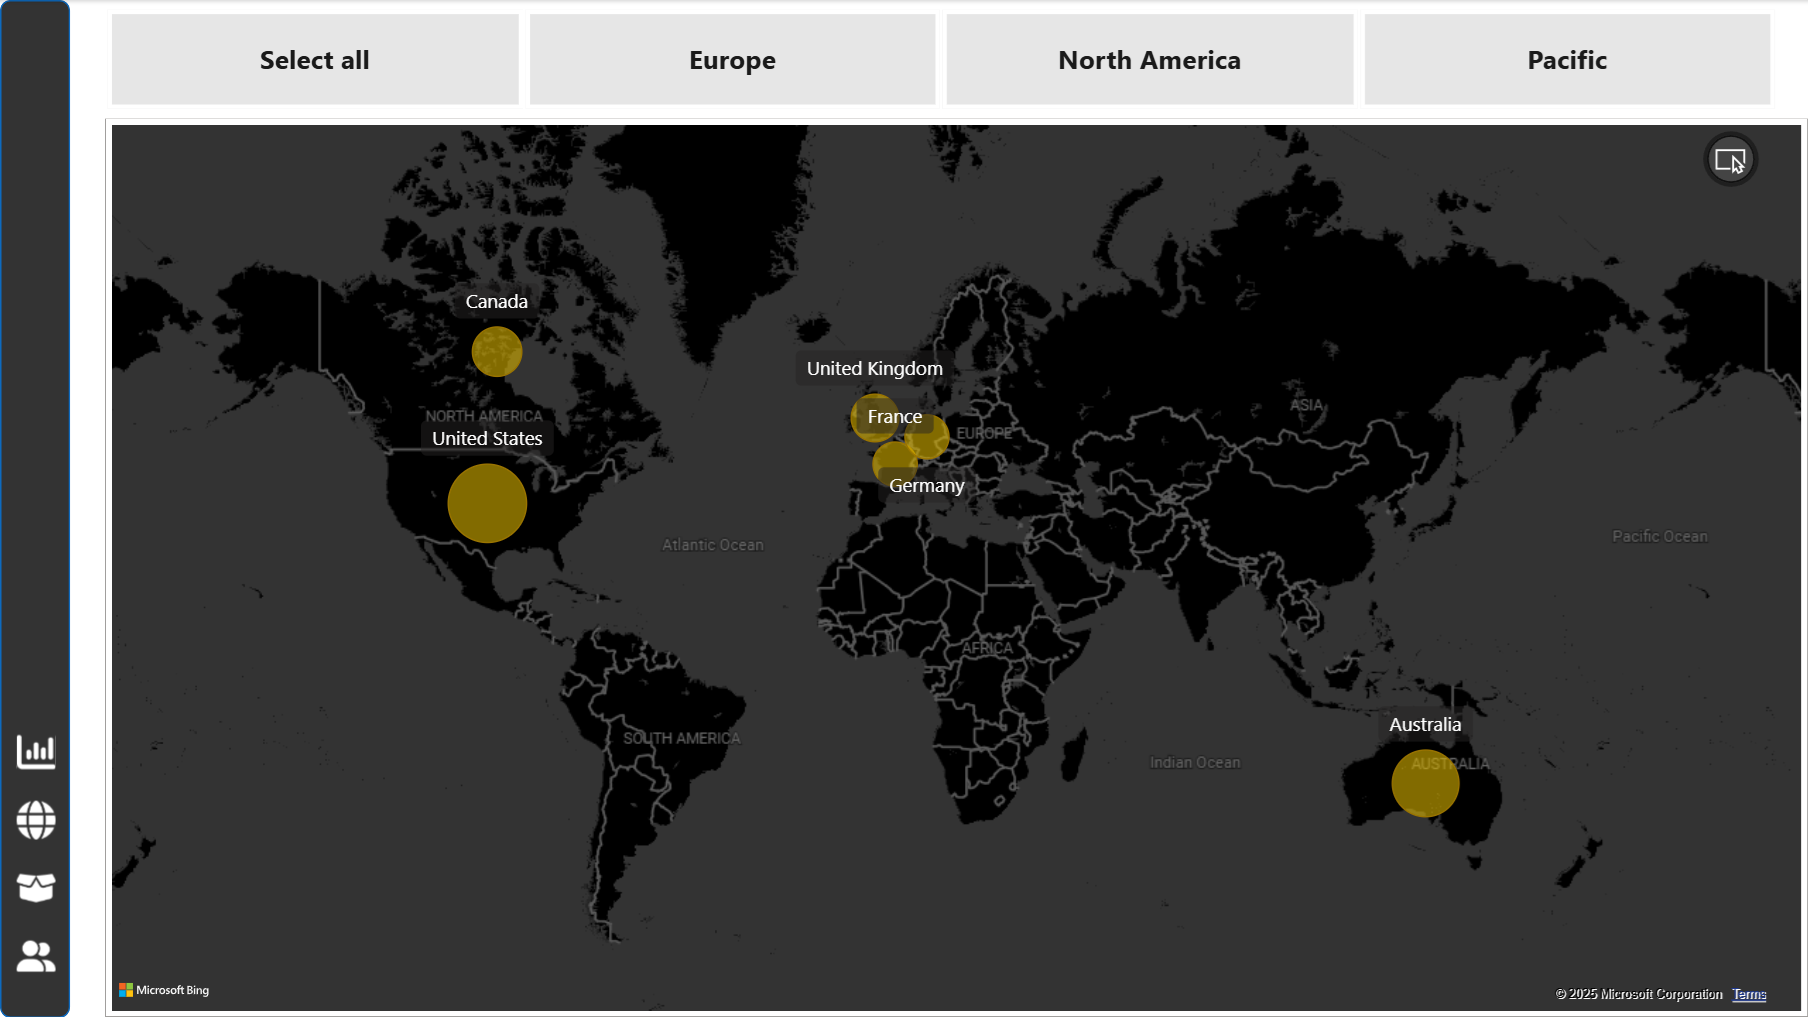

Layout of this report page (visuals, bound fields, positions):
{"tool":"powerbi","page":{"name":"Map","canvas":[1280,720],"ordinal":1},"visuals":[{"type":"shape","title":"LeftNavBackground","box":[0,0,49.6,720.6],"z":0},{"type":"actionButton","title":"btnNavCustomerDetail","box":[7.8,658.8,35.6,35.6],"z":0,"group":"g1"},{"type":"group","id":"g1","title":"NavButtons","box":[7.8,514.4,35.6,180],"z":500},{"type":"map","title":"Country","fields":{"Category":["Territory Lookup.Country"],"Size":["MeasuresTable.Total Orders"]},"box":[74.3,83.6,1205.7,636.5],"z":1000},{"type":"actionButton","title":"btnNavExecDashboard","box":[7.8,514.4,35.6,35.6],"z":1000,"group":"g1"},{"type":"slicer","fields":{"Values":["Territory Lookup.Continent"]},"box":[49.9,0,1230.1,83.6],"z":2000},{"type":"actionButton","title":"btnNavMap","box":[7.8,562.5,35.6,35.6],"z":2000,"group":"g1"},{"type":"actionButton","title":"btnNavProductDetail","box":[7.8,610.7,35.6,35.6],"z":3000,"group":"g1"}]}

Visuals, with their boxes in screenshot pixels (x1, y1, x2, y2):
"LeftNavBackground" shape: [left=0, top=5, right=69, bottom=1008]
"btnNavCustomerDetail" actionButton: [left=11, top=922, right=60, bottom=972]
"NavButtons" group: [left=11, top=721, right=60, bottom=972]
"Country" map: [left=103, top=121, right=1783, bottom=1008]
"btnNavExecDashboard" actionButton: [left=11, top=721, right=60, bottom=771]
slicer - Territory Lookup.Continent: [left=70, top=5, right=1783, bottom=121]
"btnNavMap" actionButton: [left=11, top=788, right=60, bottom=838]
"btnNavProductDetail" actionButton: [left=11, top=855, right=60, bottom=905]
